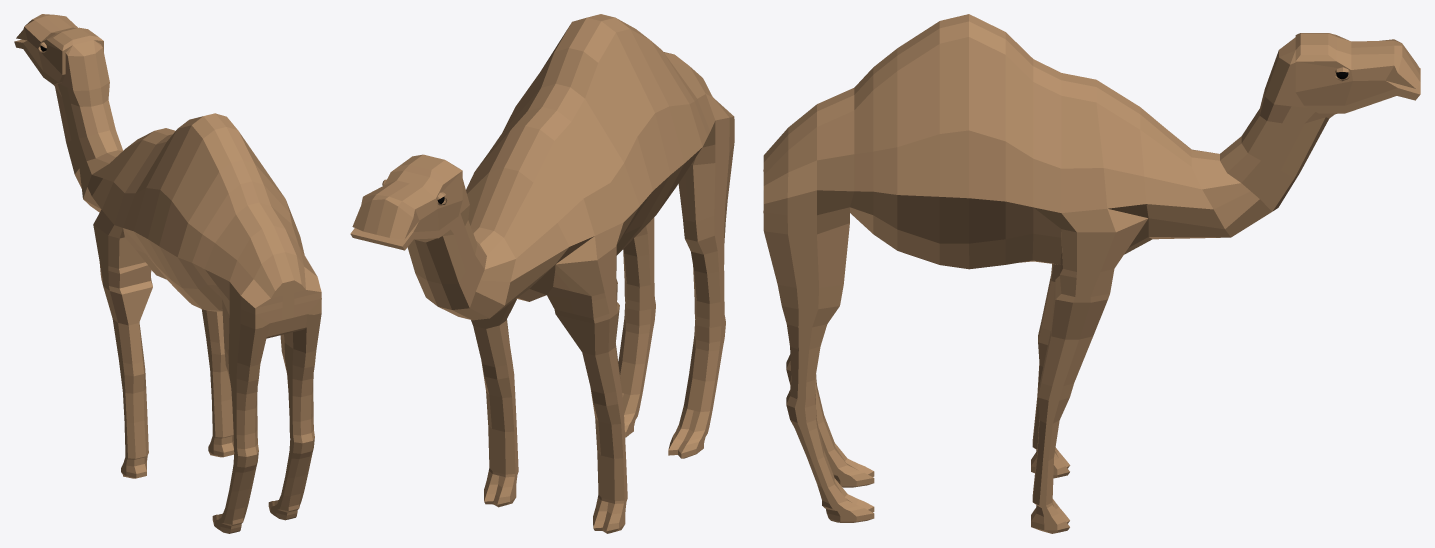
Rendered from Camel.glb.
3 views of the same model, side by side, from view 1: azimuth 30°, elevation 25°; view 2: azimuth 150°, elevation 25°; view 3: azimuth 270°, elevation 25° (orthographic). The views are drawn at different scales.
Visible parts, largest first — view 1: CamelModel; view 2: CamelModel; view 3: CamelModel.
Boxes of the visible parts, left/top/right/bottom form: CamelModel: left=14, top=14, right=321, bottom=533; CamelModel: left=350, top=14, right=734, bottom=533; CamelModel: left=763, top=14, right=1420, bottom=533.
Size of the model in its own units: 5.88 by 17.03 by 21.03.
